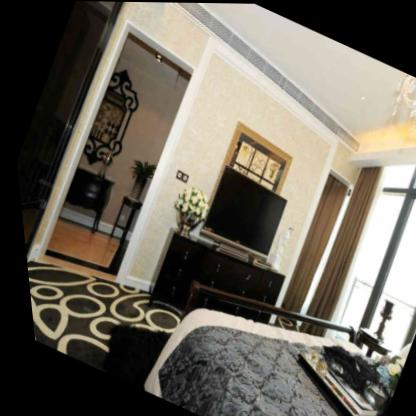TV stand: (130, 217, 292, 353)
